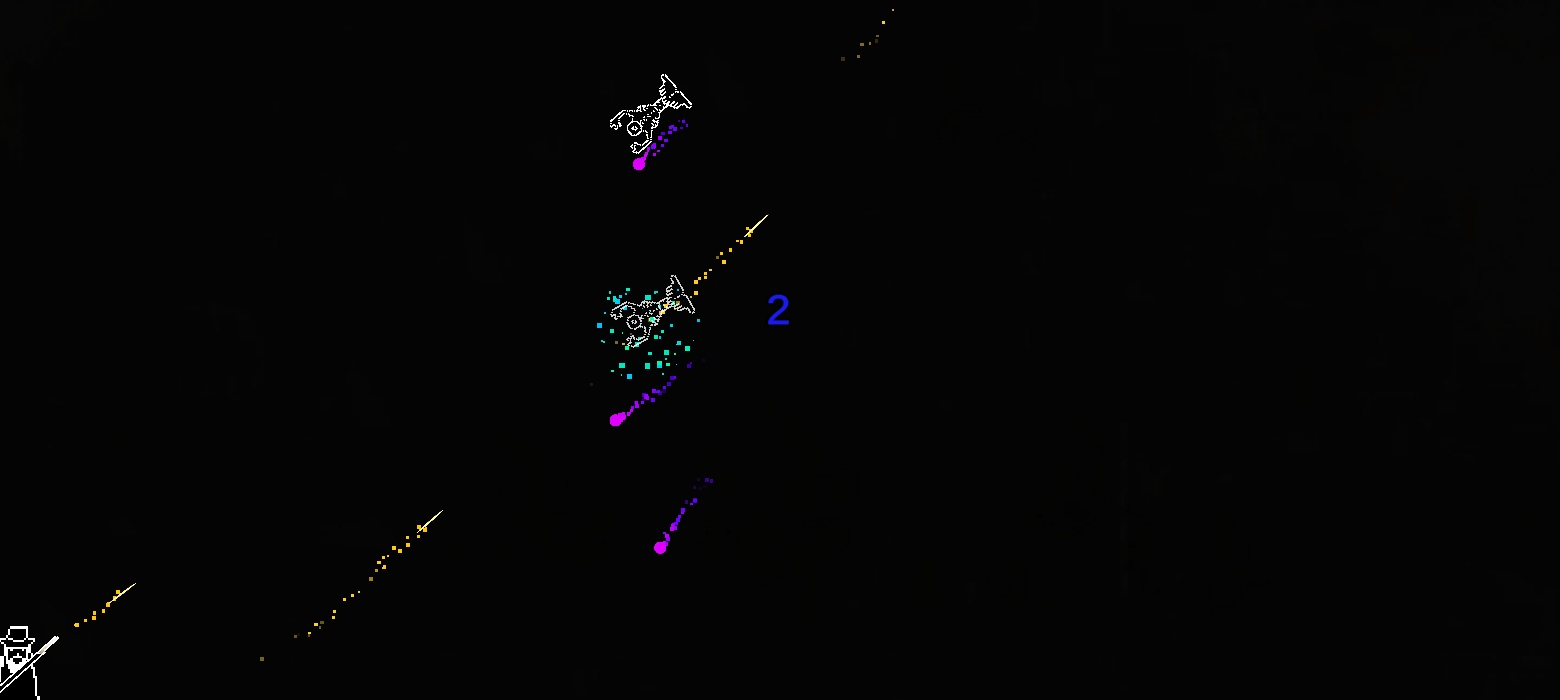enemy: (609, 73, 693, 155), (610, 275, 696, 349)
